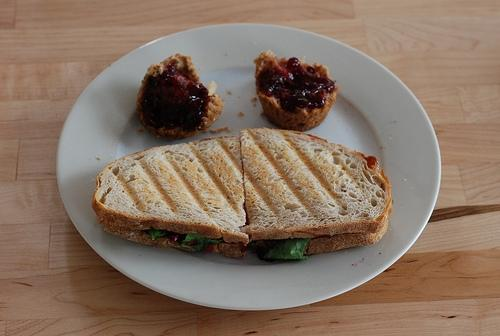lettuce: (256, 238, 311, 262), (182, 233, 224, 252), (148, 229, 168, 242)
